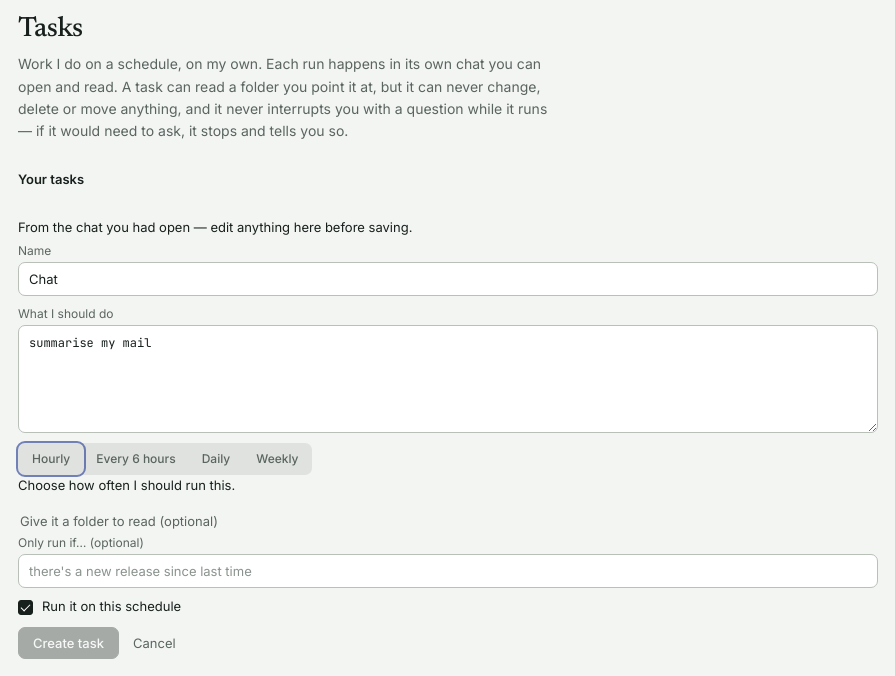
Test: a draft from /schedule › with no rhythm read, leaves it empty, focuses it, and will not save until one is chosen
Expected: the button "Create task" is disabled, [18, 627, 119, 659]
Click the button with class "self-segment" showing "Weekly": x=277, y=459 [244, 445, 310, 473]
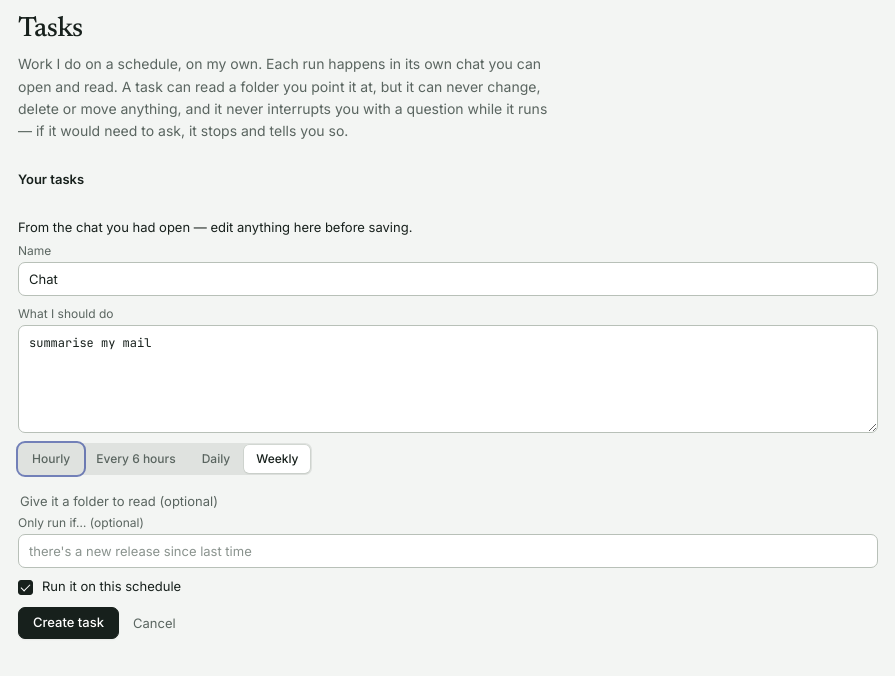
Now the button "Create task" is enabled, box [18, 607, 119, 639]
